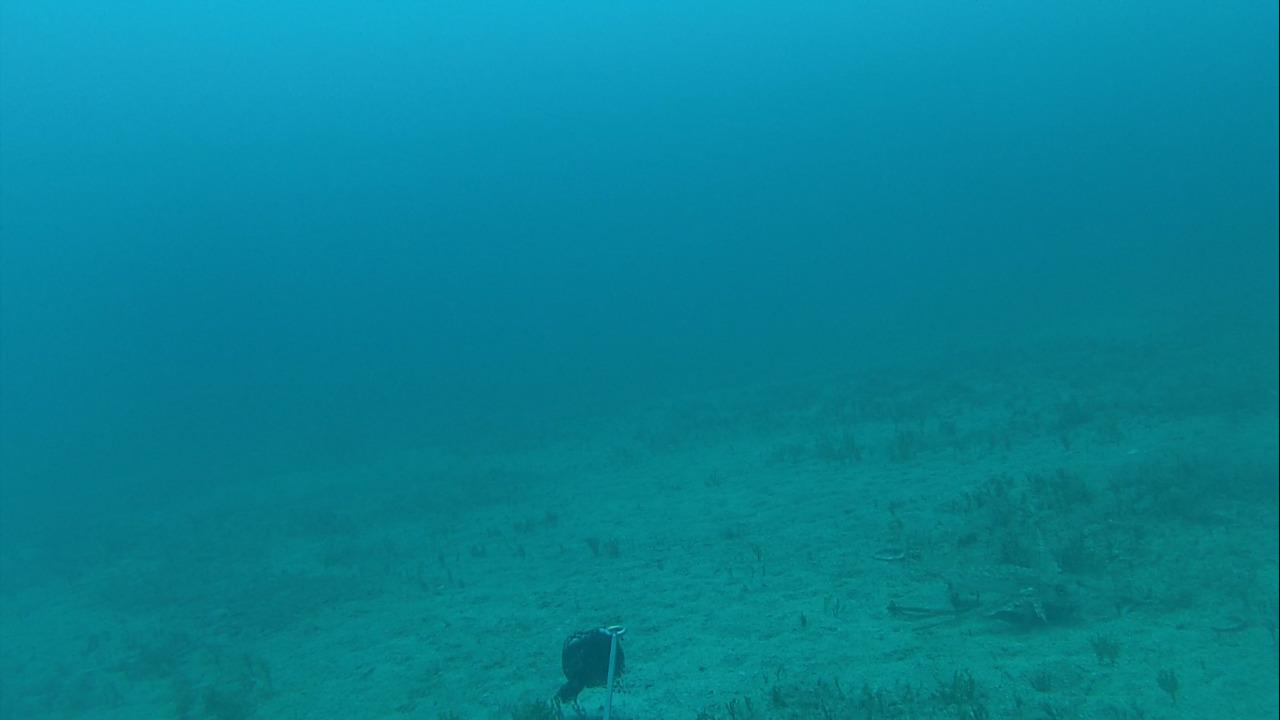dactylopterus: (894, 529, 1084, 633)
